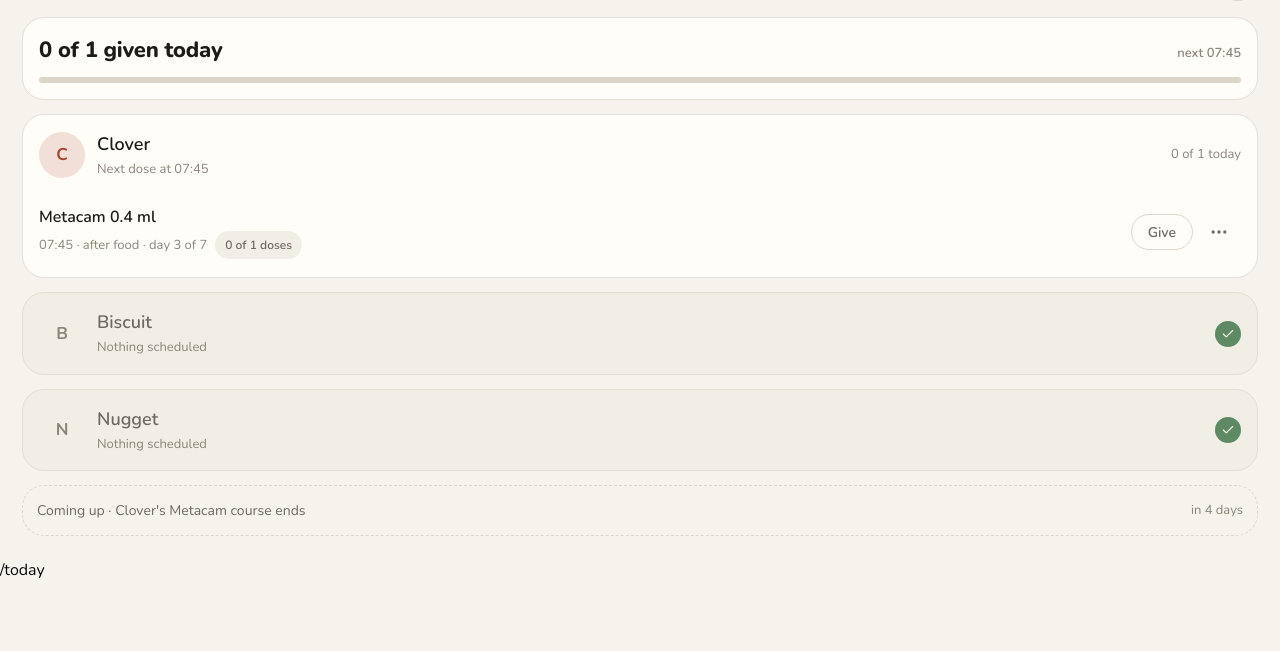
it: TodayPage › confirming the early-give dialog logs the dose at the current time, past the grace-window collision
The width and height of the screenshot is (1280, 651).
Click the button "Give" at (1162, 232), box [1131,214,1193,250]
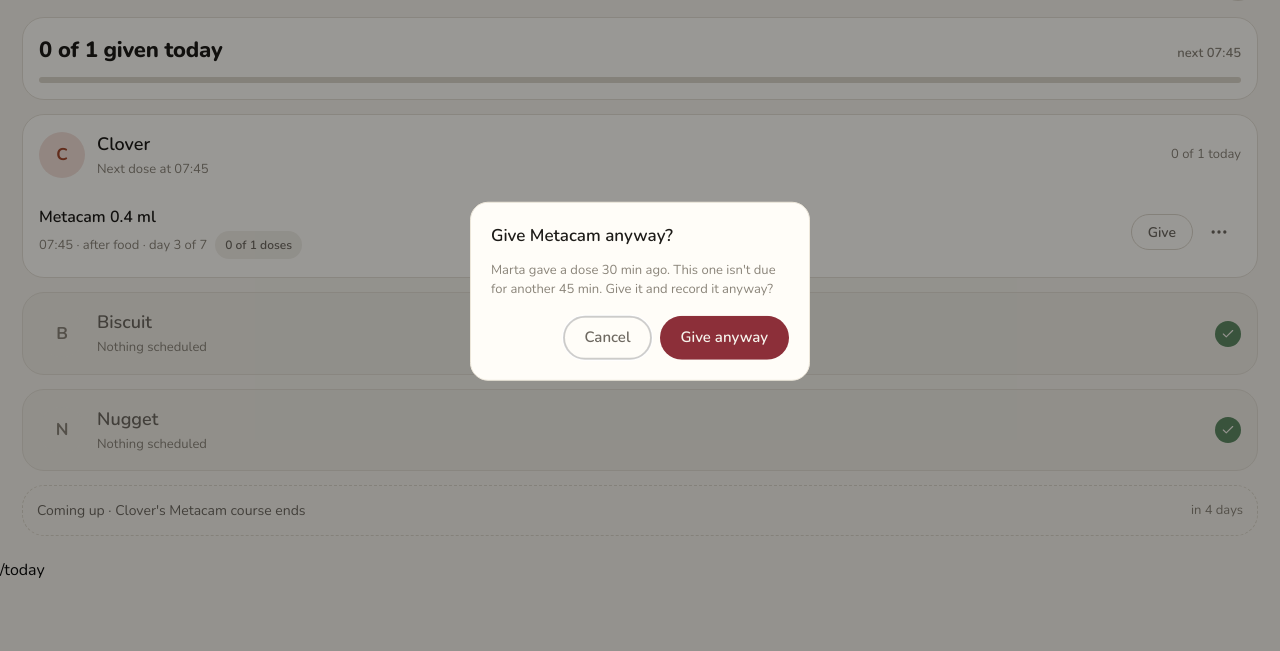
Expected: the heading "Give Metacam anyway?" is shown, [491,224,673,247]
Click the button "Give anyway" at (724, 337), box [660,315,789,359]
(page scrolled)
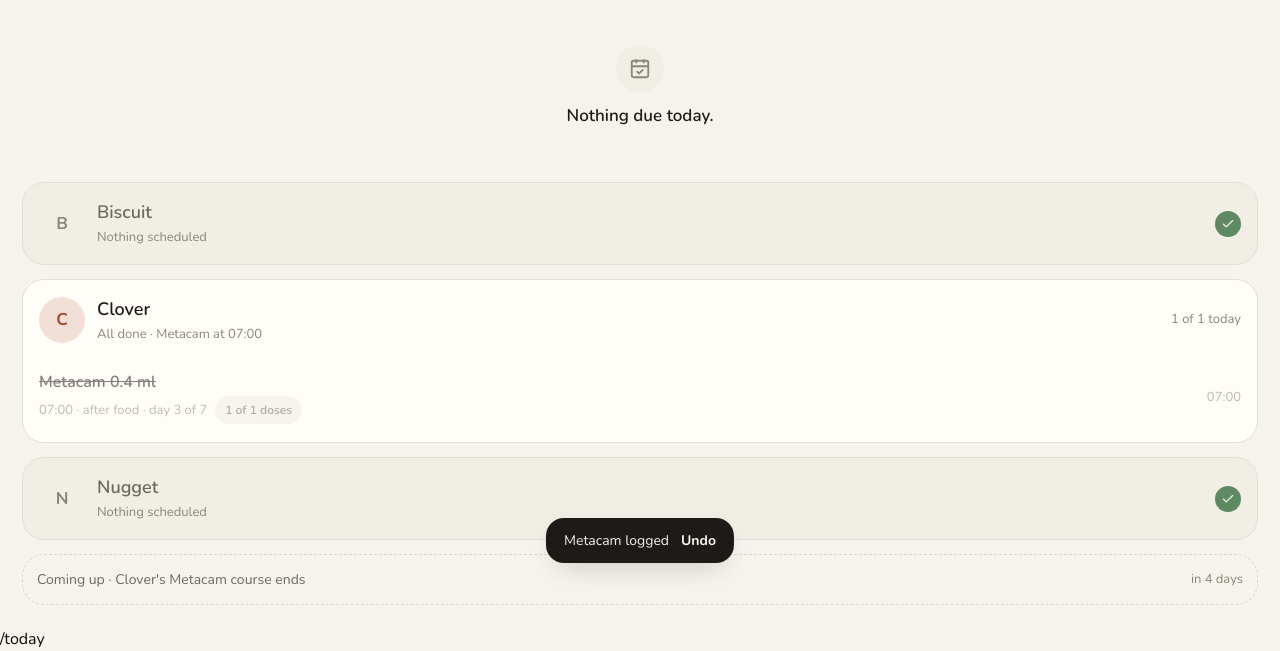
Expected: the text with test id "pathname" reads "/today", [0,628,45,650]
Expected: the message shows "Metacam logged", [564,531,669,550]
